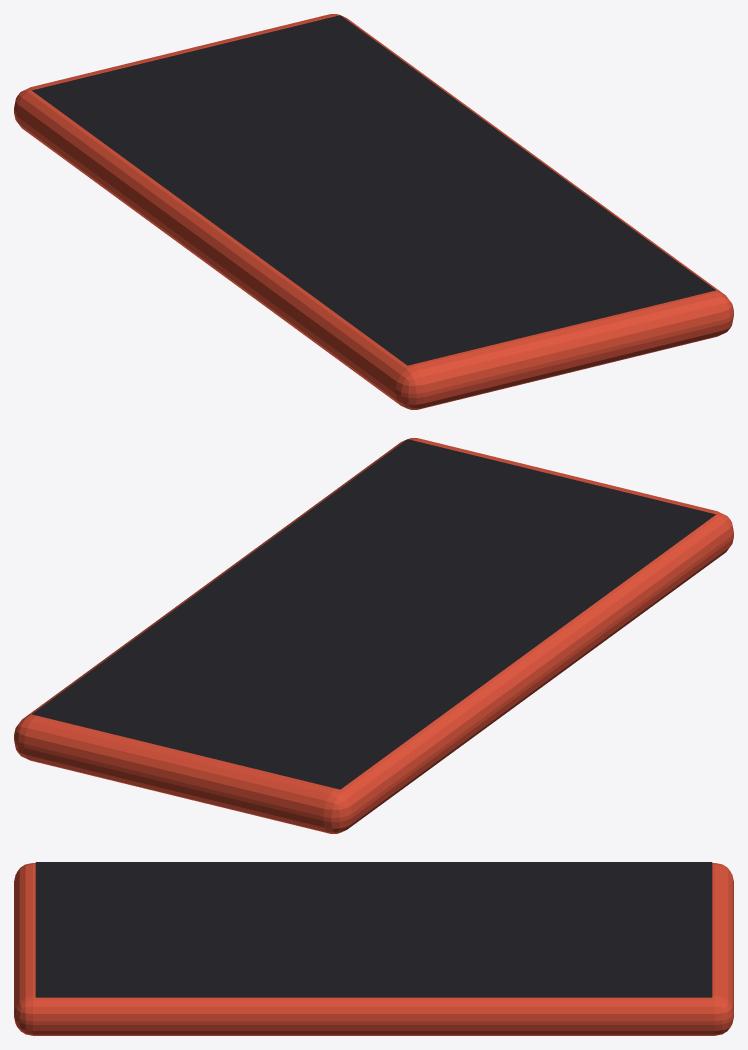
File: Phone_650.glb
The picture shows the model from 3 angles, top to bottom: view 1: azimuth 30°, elevation 25°; view 2: azimuth 150°, elevation 25°; view 3: azimuth 270°, elevation 25°; orthographic projection. The views are drawn at different scales.
Visible parts, largest first — view 1: Phone_Screen, Phone_Body; view 2: Phone_Screen, Phone_Body; view 3: Phone_Screen, Phone_Body.
Boxes of the visible parts, box(x1,y1,x2,y2) form: Phone_Screen: box(32, 15, 715, 365); Phone_Body: box(14, 14, 733, 409); Phone_Screen: box(32, 439, 715, 789); Phone_Body: box(14, 438, 733, 833); Phone_Screen: box(35, 862, 712, 997); Phone_Body: box(14, 863, 733, 1035).
Bounding box in the file's own units: 0.0716 × 0.0087 × 0.1478.
